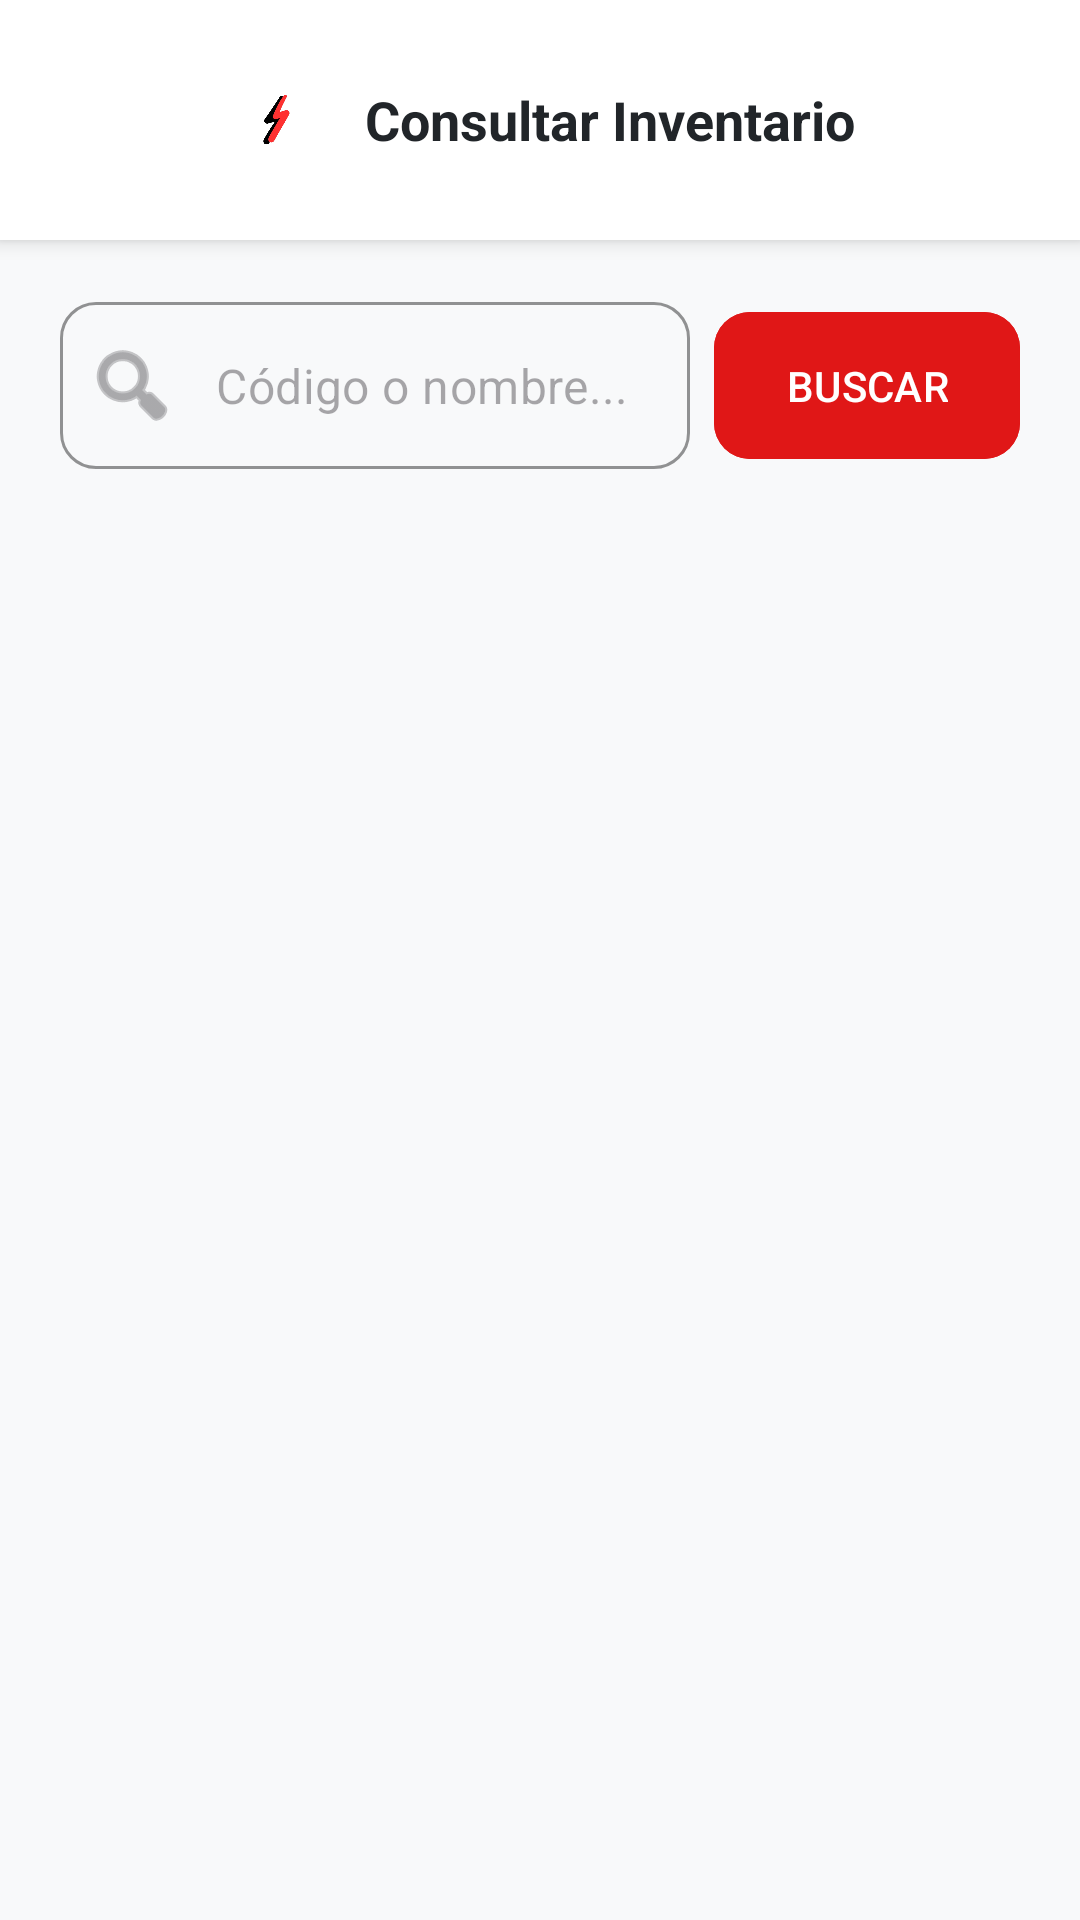

Screen size 1080 x 1920. Icon name, then its center in pixels as (x=x, y=y):
rayitoimpulse: (x=276, y=119)
